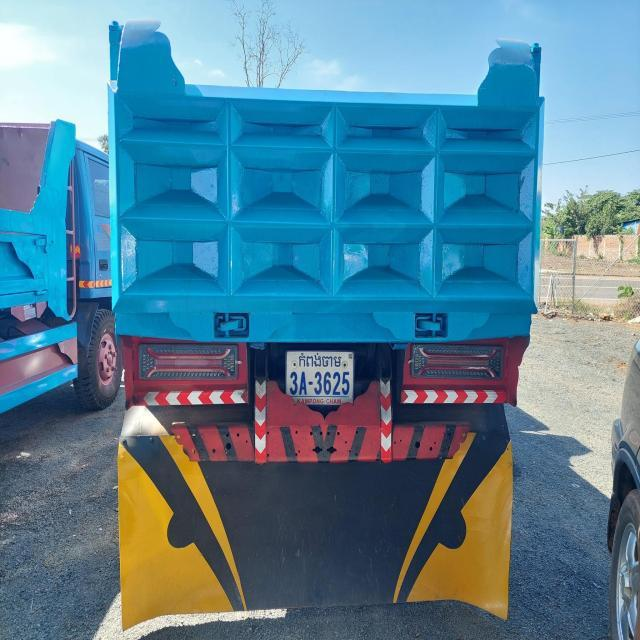Kampong_Cham: (297, 350, 343, 370)
